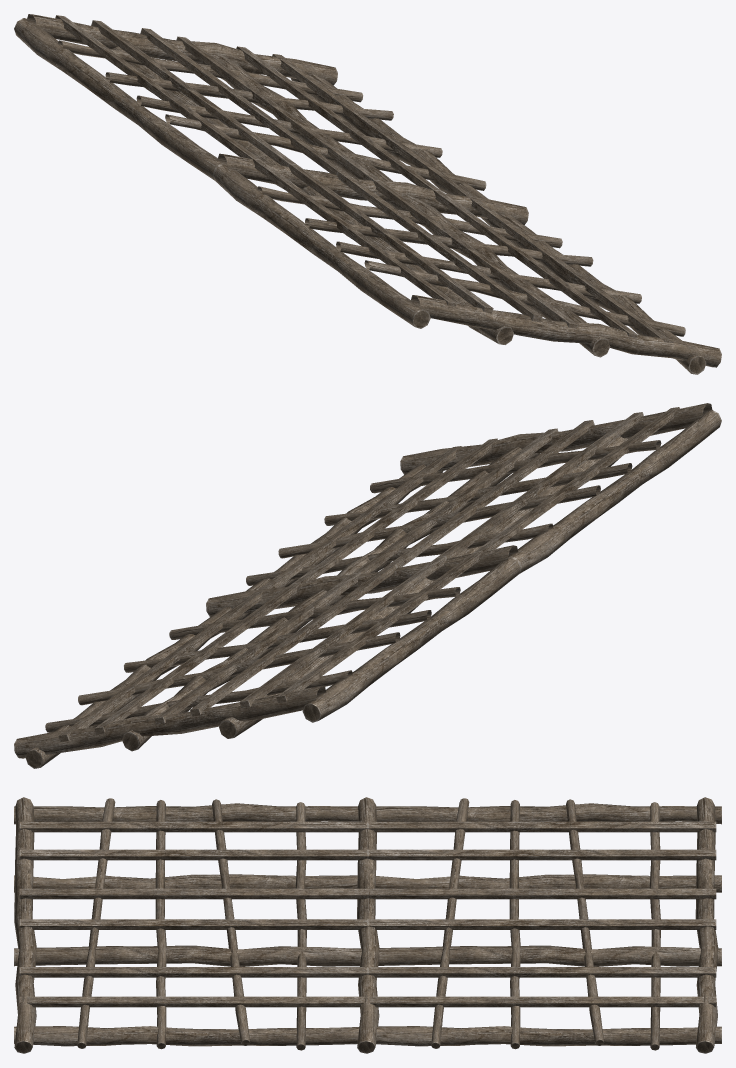
Rendered from Madeiramento.FBX.
3 views of the same model, one above another, from view 1: azimuth 30°, elevation 25°; view 2: azimuth 150°, elevation 25°; view 3: azimuth 270°, elevation 25° (orthographic). The views are drawn at different scales.
Parts seen in each view (by area): view 1: Madeiramento; view 2: Madeiramento; view 3: Madeiramento.
Part boxes in pixels (x1,y1,x2,y2): Madeiramento: (14,14,721,374); Madeiramento: (14,403,721,768); Madeiramento: (14,797,721,1053).
Bounding box in the file's own units: 110 × 48.35 × 240.
Materials: 1 (1 with a texture image).
